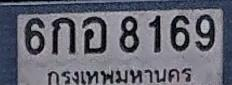1: (148, 15, 160, 52)
6: (24, 17, 44, 54), (170, 14, 189, 51)
8: (120, 15, 138, 52)
9: (196, 14, 214, 50)
A01: (51, 17, 76, 54)
A43: (82, 16, 108, 54)
BKK: (43, 65, 198, 85)
